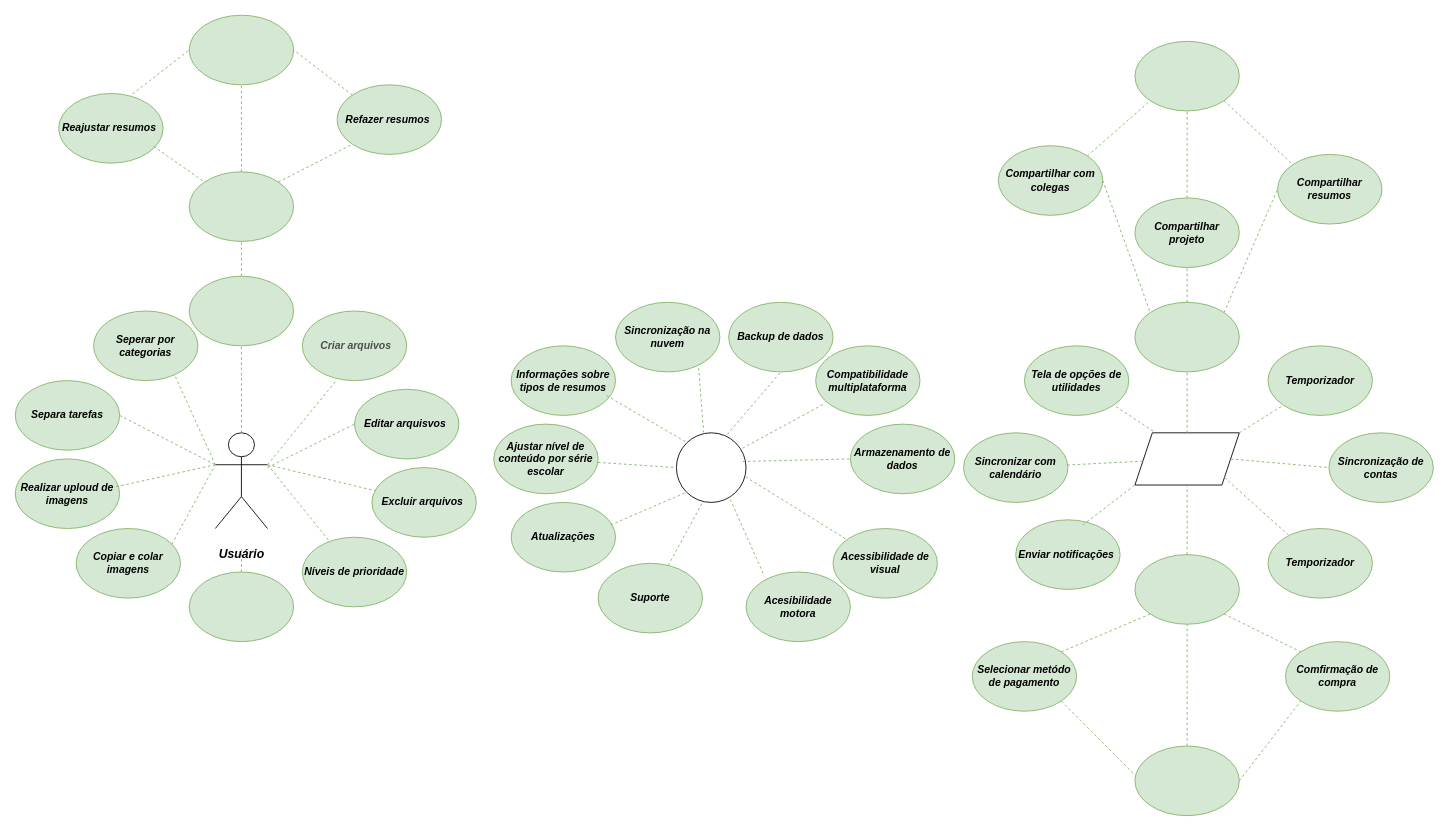
This 1449x831 diagram has some shape labels left out. Each missing label, with the centre of its shape:
"Apagar dados" belongs at pixel 241 606.
"Baixar resumos" belongs at pixel 241 206.
"Compartilhar tarefa" belongs at pixel 1186 75.
"Copiar resumos" belongs at pixel 241 49.
"IA" belongs at pixel 711 467.
"Notificar prazos" belongs at pixel 1186 589.
"Selecionar formas de resumos" belongs at pixel 241 310.
"Sincronizar com agenda" belongs at pixel 1186 336.
"Sistema" belongs at pixel 1186 458.
"Transações dentro do app" belongs at pixel 1186 780.
